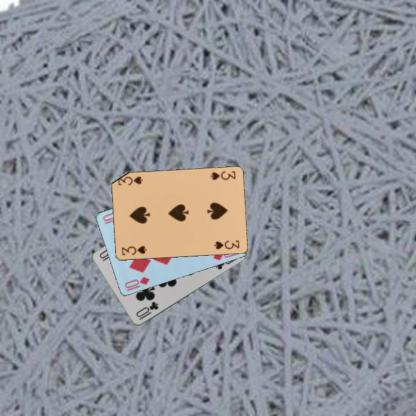10c: (133, 300, 159, 322)
10d: (122, 274, 151, 292)
3s: (119, 243, 147, 257), (208, 169, 236, 181)
